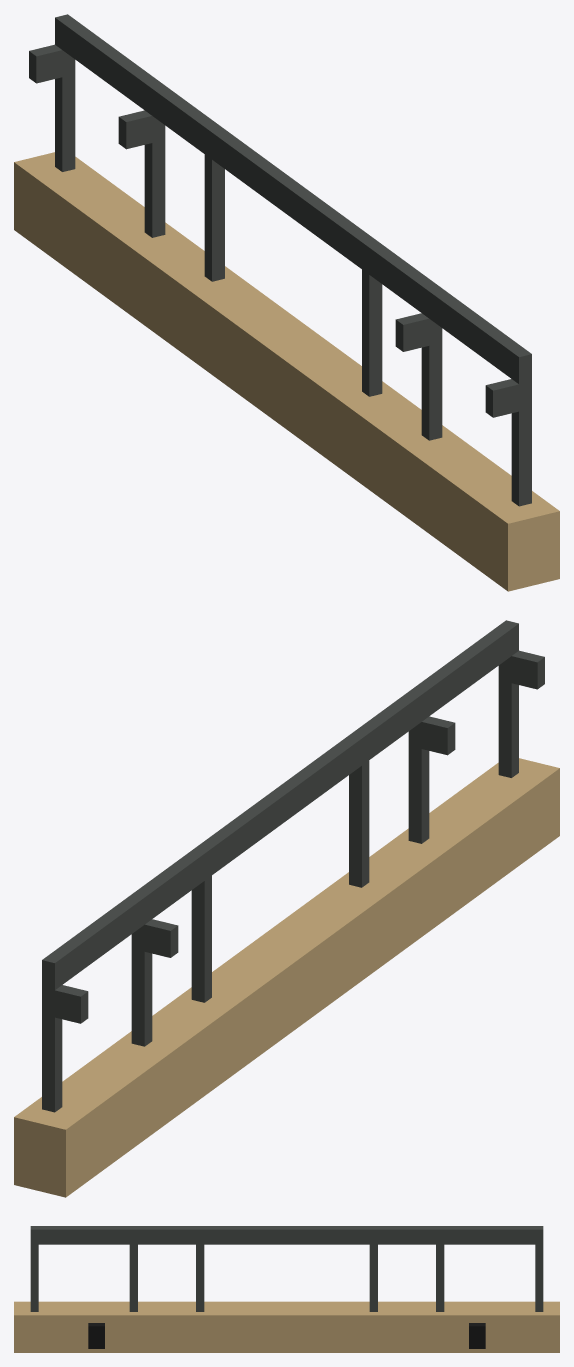
The model's file is light_tactical_vehicle_brush_guard.glb.
The picture shows the model from 3 angles, top to bottom: view 1: azimuth 30°, elevation 25°; view 2: azimuth 150°, elevation 25°; view 3: azimuth 270°, elevation 25°; orthographic projection. The views are drawn at different scales.
Parts seen in each view (by area): view 1: body:compound; view 2: body:compound; view 3: body:compound.
Boxes of the visible parts, x1=… form: body:compound: x1=14, y1=14, x2=559, y2=591; body:compound: x1=14, y1=620, x2=559, y2=1197; body:compound: x1=14, y1=1226, x2=559, y2=1352.
Bounding box in the file's own units: 0.1562 × 0.5 × 2.06.
